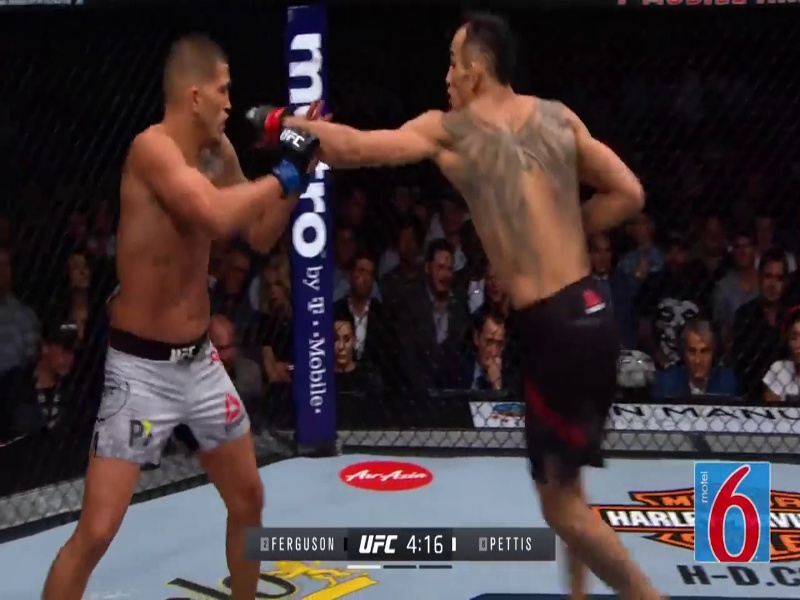fighter: (250, 13, 669, 600), (32, 33, 332, 600)
